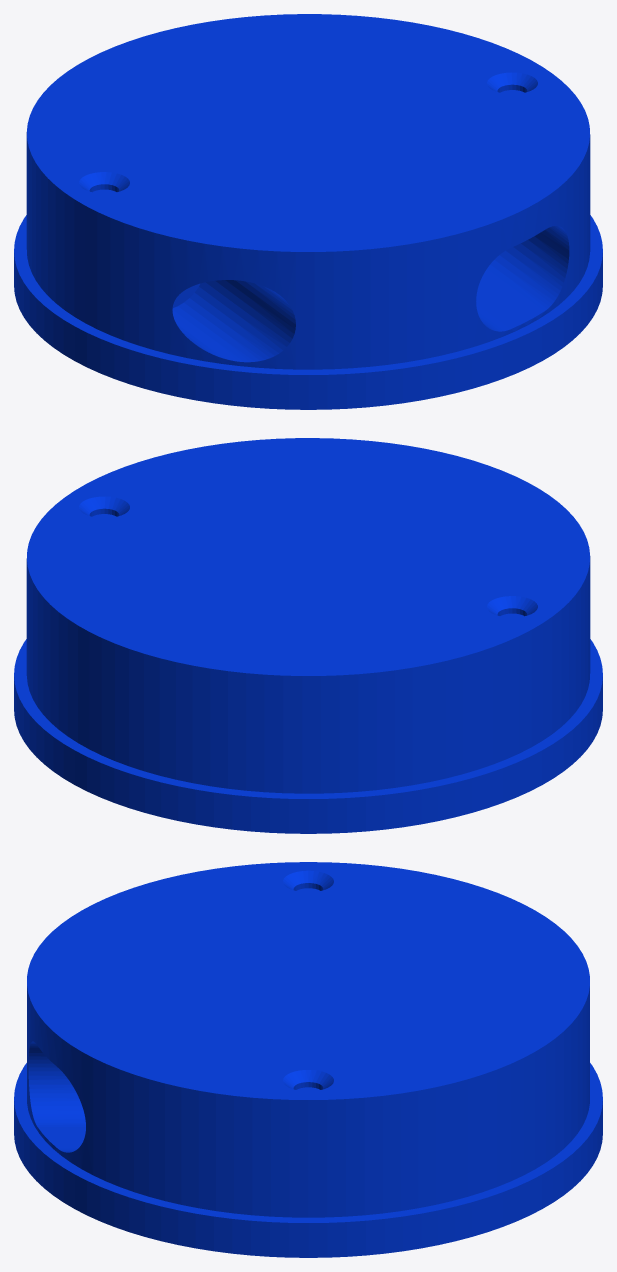
Rendered from YDlidar_head.dae.
3 renders of one model, top to bottom at view 1: azimuth 30°, elevation 25°; view 2: azimuth 150°, elevation 25°; view 3: azimuth 270°, elevation 25°, orthographic.
Visible parts, largest first — view 1: YDlidar head v4; view 2: YDlidar head v4; view 3: YDlidar head v4.
Boxes of the visible parts, x1,y1,x2,y2 form: YDlidar head v4: [14, 14, 602, 409]; YDlidar head v4: [14, 438, 602, 833]; YDlidar head v4: [14, 862, 602, 1257].
Size of the model in its own units: 0.069 by 0.069 by 0.0197.
